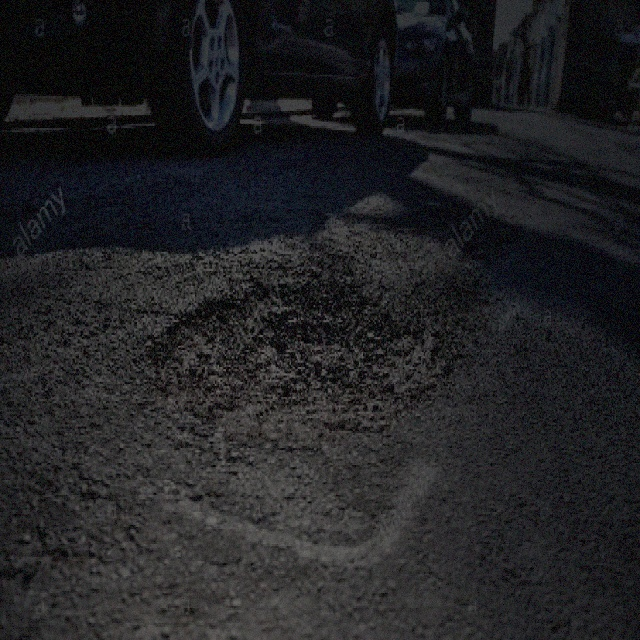pothole: (140, 267, 493, 452)
